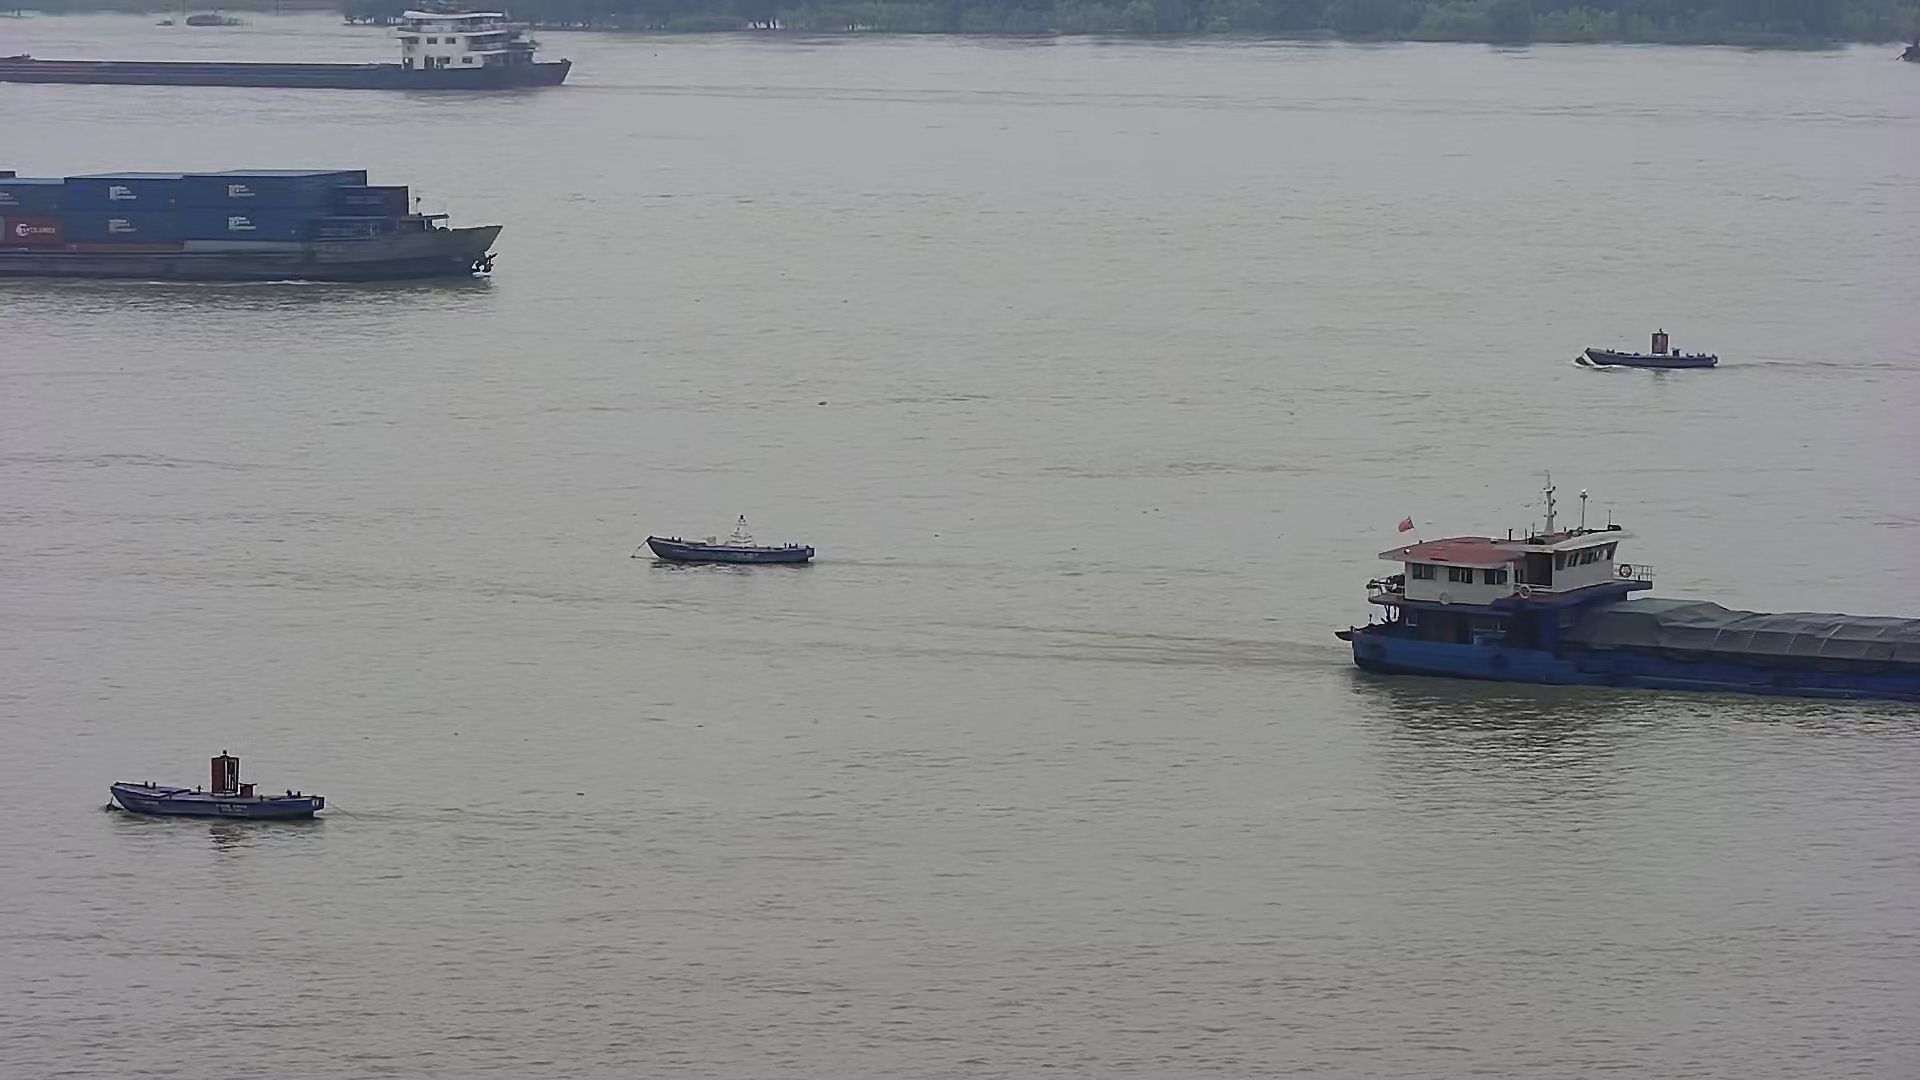boat: (108, 742, 331, 822), (640, 510, 822, 570), (1578, 326, 1724, 377)
ship: (1331, 481, 1920, 712), (1, 165, 501, 285), (1, 9, 571, 91)
